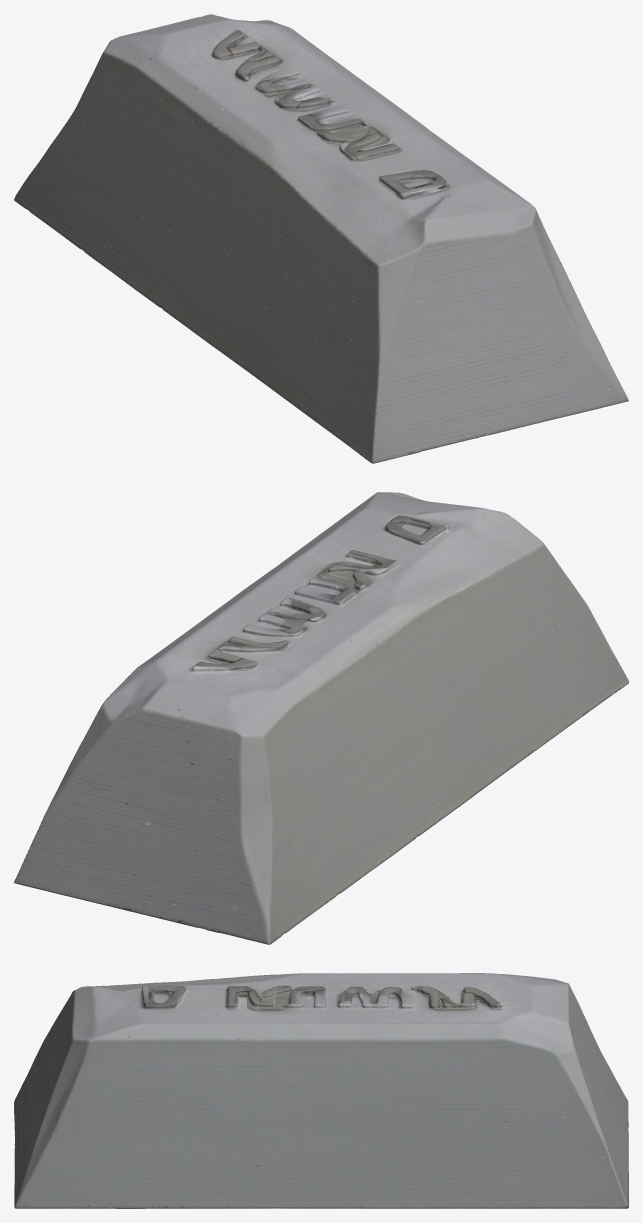
File: Meshy_AI_Iron_Ingot_0315060623_texture.fbx
The picture shows the model from 3 angles, top to bottom: view 1: azimuth 30°, elevation 25°; view 2: azimuth 150°, elevation 25°; view 3: azimuth 270°, elevation 25°; orthographic projection. The views are drawn at different scales.
Parts seen in each view (by area): view 1: Mesh_0; view 2: Mesh_0; view 3: Mesh_0.
Boxes of the visible parts, box(x1,y1,x2,y2) form: Mesh_0: box(14, 14, 628, 463); Mesh_0: box(14, 492, 628, 944); Mesh_0: box(14, 973, 628, 1208).
Bounding box in the file's own units: 82.67 × 58.14 × 201.
1 material, 1 textured.
